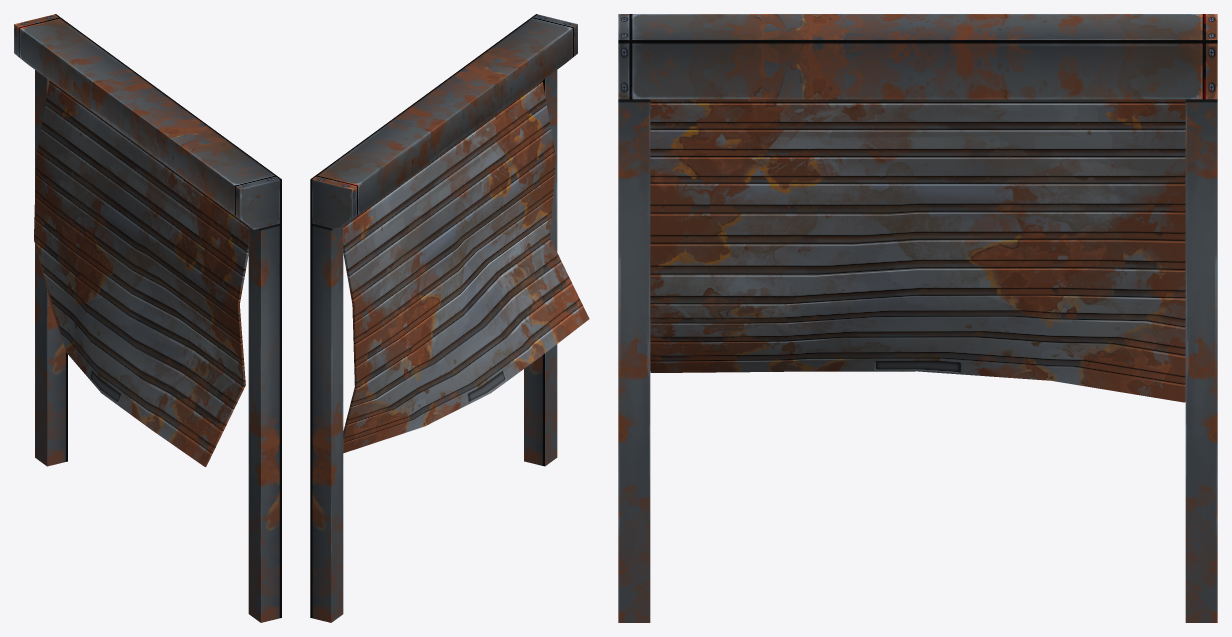
The model's file is rollerShutter03_3m_B.fbx.
3 renders of one model, left to right at view 1: azimuth 30°, elevation 25°; view 2: azimuth 150°, elevation 25°; view 3: azimuth 270°, elevation 25°, orthographic. The views are drawn at different scales.
Parts seen in each view (by area): view 1: rollerShutter03_3m_B; view 2: rollerShutter03_3m_B; view 3: rollerShutter03_3m_B.
Boxes of the visible parts, bbox=[...] form: rollerShutter03_3m_B: bbox=[14, 14, 281, 622]; rollerShutter03_3m_B: bbox=[310, 14, 589, 622]; rollerShutter03_3m_B: bbox=[618, 14, 1217, 622].
Size of the model in its own units: 48.3 by 300 by 280.
